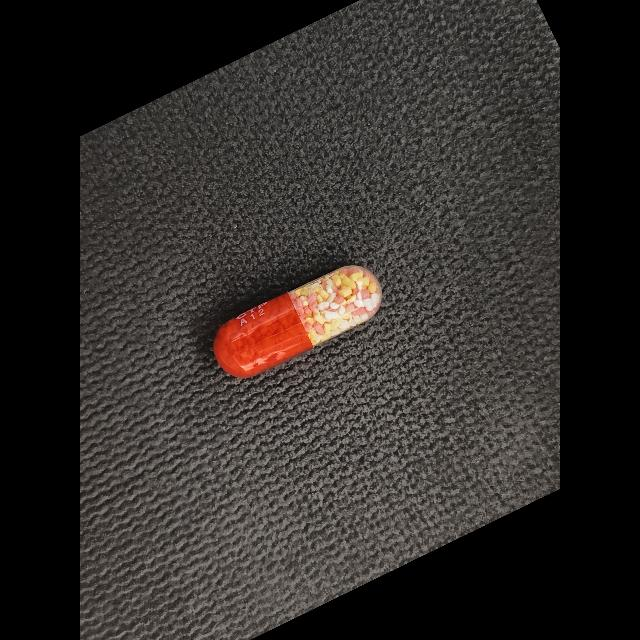Intact Capsule: (214, 266, 381, 378)
